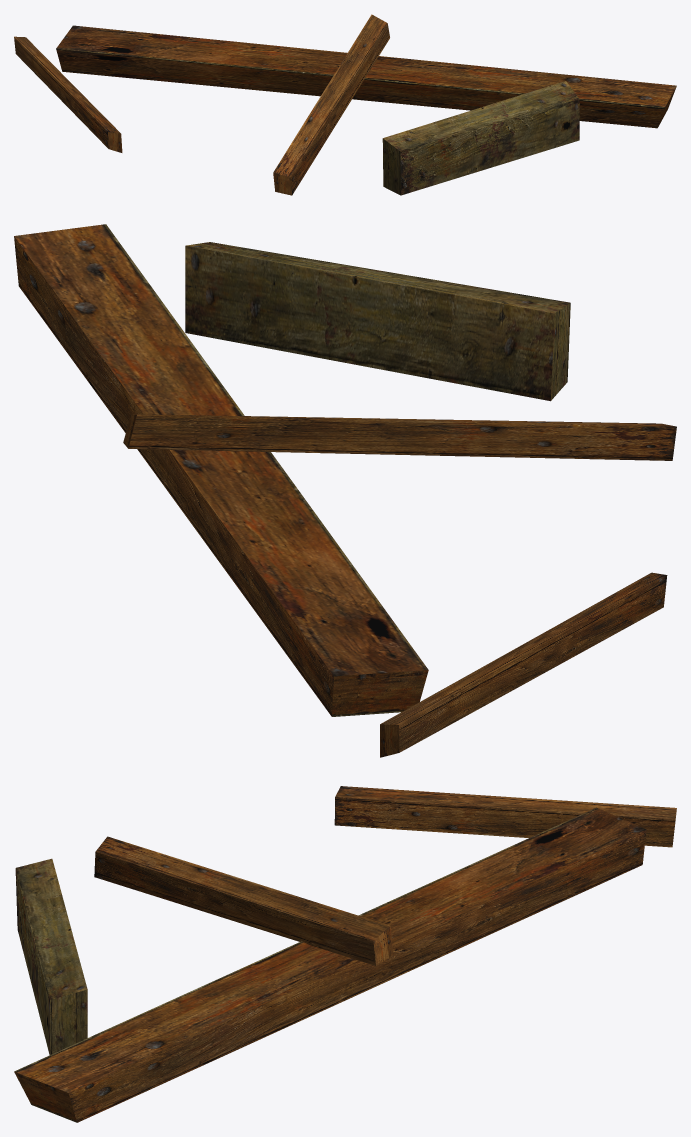
The model's file is mm9_deco_lumberdebris02.glb.
The picture shows the model from 3 angles, top to bottom: view 1: azimuth 30°, elevation 25°; view 2: azimuth 150°, elevation 25°; view 3: azimuth 270°, elevation 25°; orthographic projection. The views are drawn at different scales.
Parts seen in each view (by area): view 1: Lumberdebris02; view 2: Lumberdebris02; view 3: Lumberdebris02.
Boxes of the visible parts, bbox=[...] form: Lumberdebris02: bbox=[14, 14, 676, 195]; Lumberdebris02: bbox=[14, 224, 676, 757]; Lumberdebris02: bbox=[14, 786, 676, 1122].
Bounding box in the file's own units: 2.49 × 0.305 × 2.23.
Materials: 1 (1 with a texture image).
